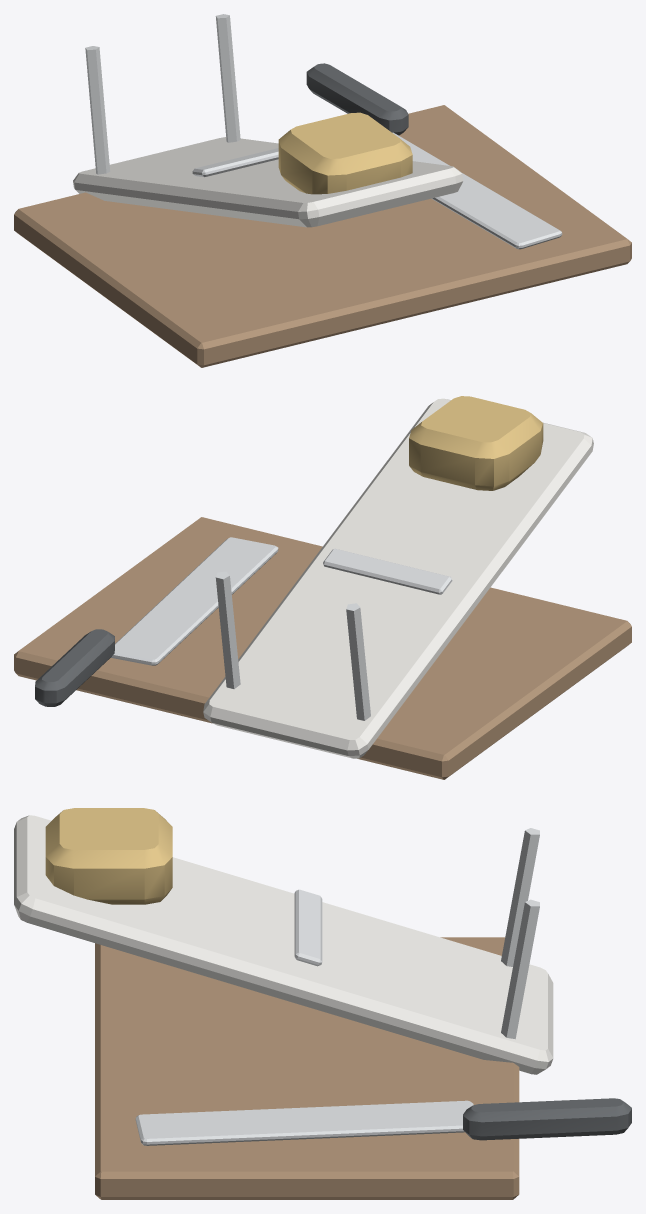
Rendered from restaurant-kitchen-and-dining-mandoline-and-board-set-5bf7836f__16431.glb.
3 views of the same model, one above another, from view 1: azimuth 30°, elevation 25°; view 2: azimuth 150°, elevation 25°; view 3: azimuth 270°, elevation 25° (orthographic). The views are drawn at different scales.
Visible parts, largest first — view 1: mandoline-and-board-set; view 2: mandoline-and-board-set; view 3: mandoline-and-board-set.
Part boxes in pixels (x1,y1,x2,y2): mandoline-and-board-set: (14,14,631,367); mandoline-and-board-set: (14,396,631,779); mandoline-and-board-set: (14,808,631,1199).
Size of the model in its own units: 0.4 by 0.17 by 0.4371.
